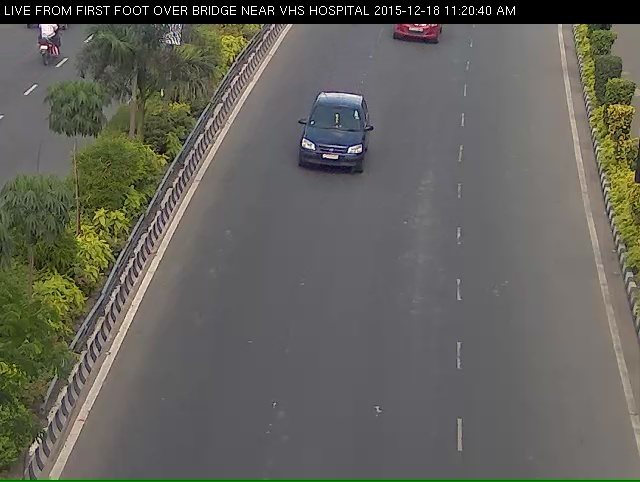Car: (289, 106, 364, 192)
